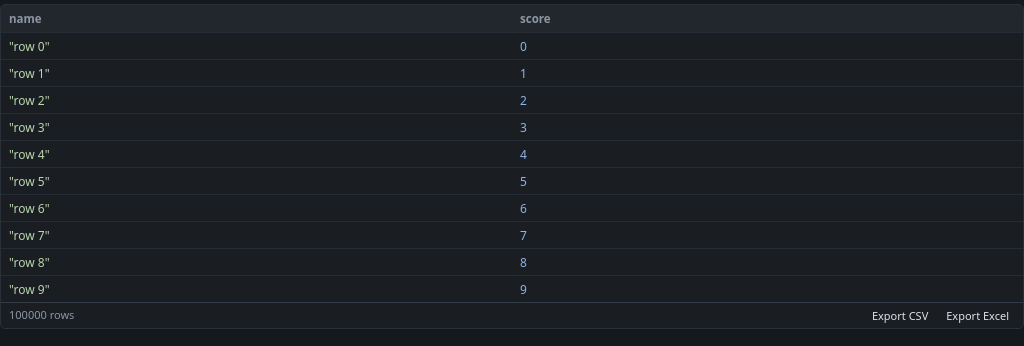
Test: cancelling an export aborts it and says so
The image size is (1024, 346).
Click the button "Export CSV" at (900, 316), box [866,307,934,324]
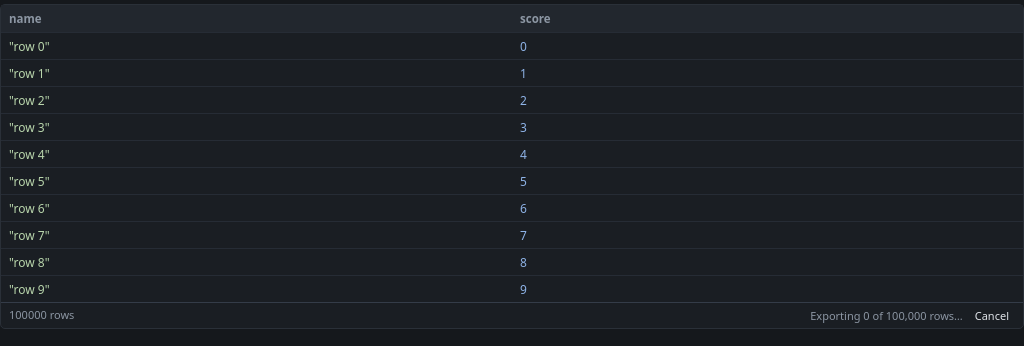
Click the button "Cancel" at (992, 316), box [969,307,1015,324]
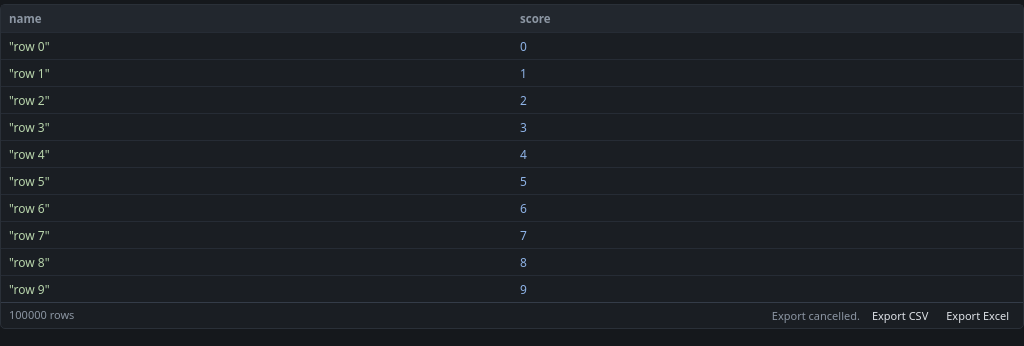
Result: the text "Export cancelled." is shown at [772,308,860,323]
